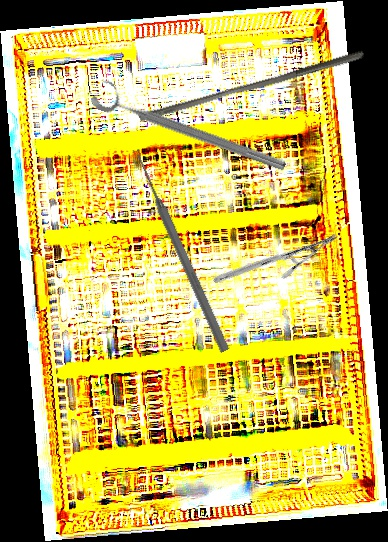Fixation Ring: (88, 75, 293, 177)
Needle Holder: (211, 192, 340, 325)
Pusher: (138, 41, 365, 130), (132, 152, 232, 354)
